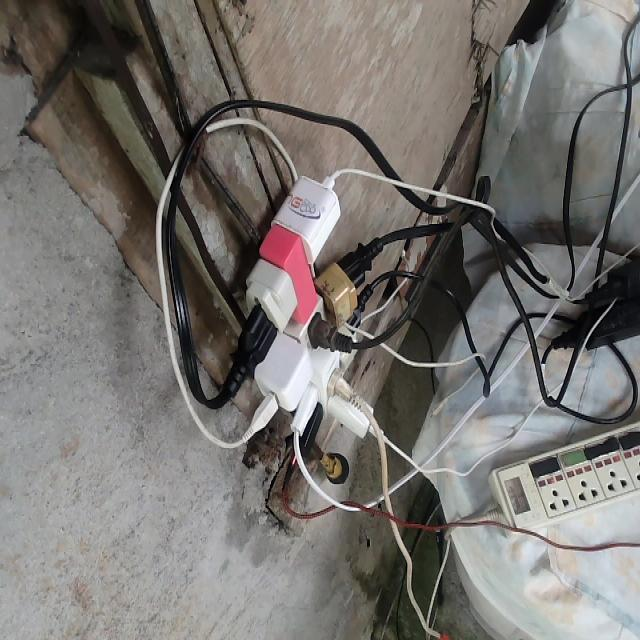-: (235, 175, 374, 452)
